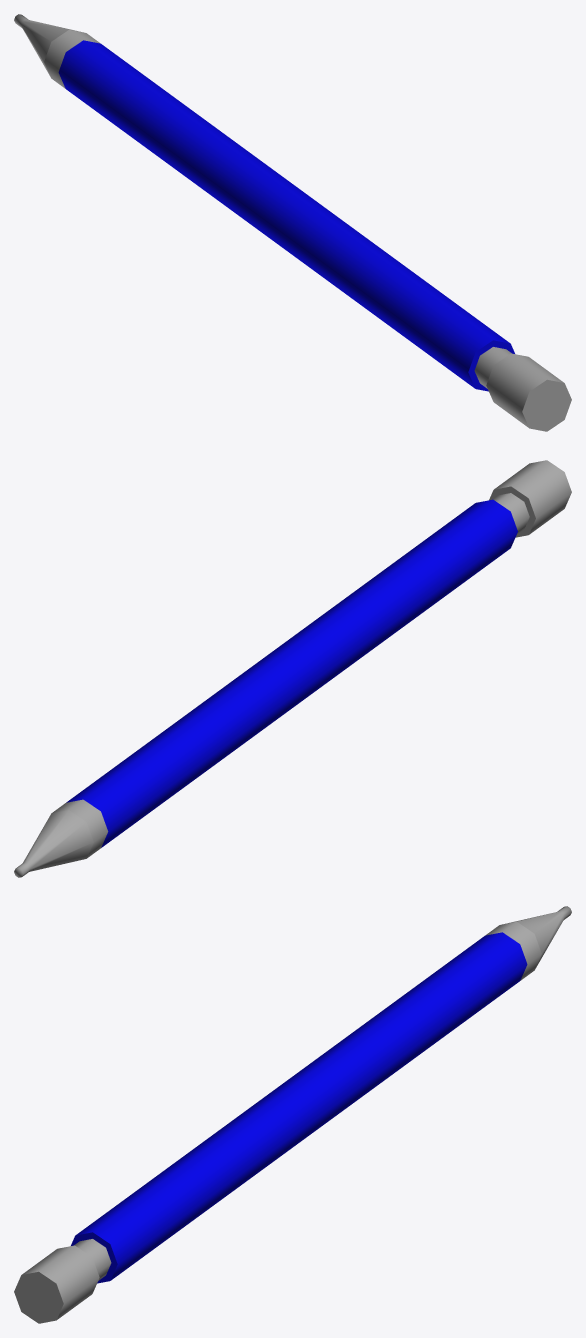
The picture shows the model from 3 angles, top to bottom: view 1: azimuth 30°, elevation 25°; view 2: azimuth 150°, elevation 25°; view 3: azimuth 330°, elevation 25°; orthographic projection.
Visible parts, largest first — view 1: sweethome3d_window_pane, grand_gris, pointe_grise, petit_gris; view 2: sweethome3d_window_pane, pointe_grise, grand_gris, petit_gris; view 3: sweethome3d_window_pane, grand_gris, pointe_grise, petit_gris.
Part boxes in pixels (x1,y1,x2,y2): sweethome3d_window_pane: [58, 40, 514, 391]; grand_gris: [486, 353, 571, 431]; pointe_grise: [14, 14, 100, 88]; petit_gris: [474, 347, 511, 388]; sweethome3d_window_pane: [66, 499, 517, 847]; pointe_grise: [14, 799, 108, 877]; grand_gris: [489, 460, 571, 537]; petit_gris: [492, 493, 529, 534]; sweethome3d_window_pane: [71, 932, 527, 1283]; grand_gris: [14, 1245, 99, 1323]; pointe_grise: [485, 906, 571, 980]; petit_gris: [74, 1239, 111, 1280].
Size of the model in its own units: 0.8 by 0.8 by 14.7.
